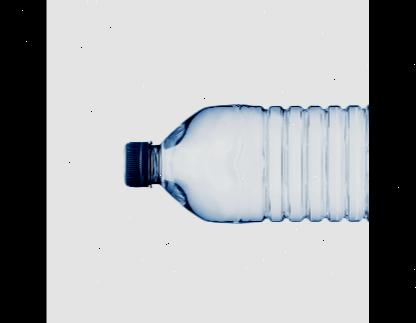Plastic Bottle: (121, 98, 369, 225)
